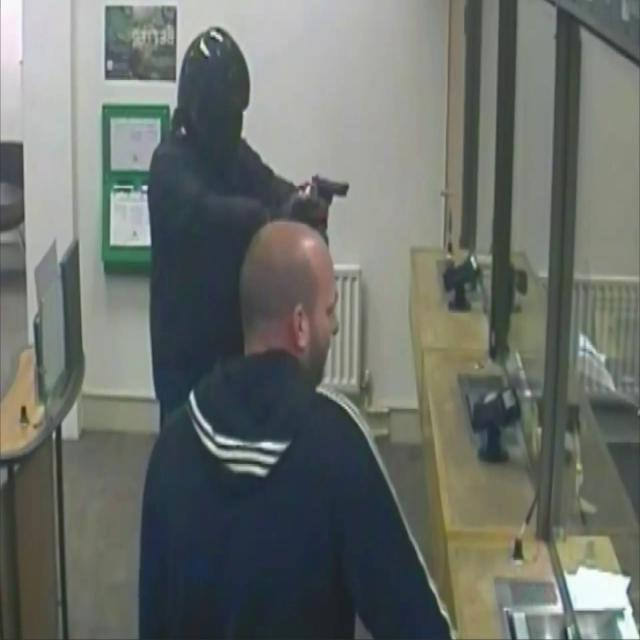weapon: (309, 175, 352, 207)
